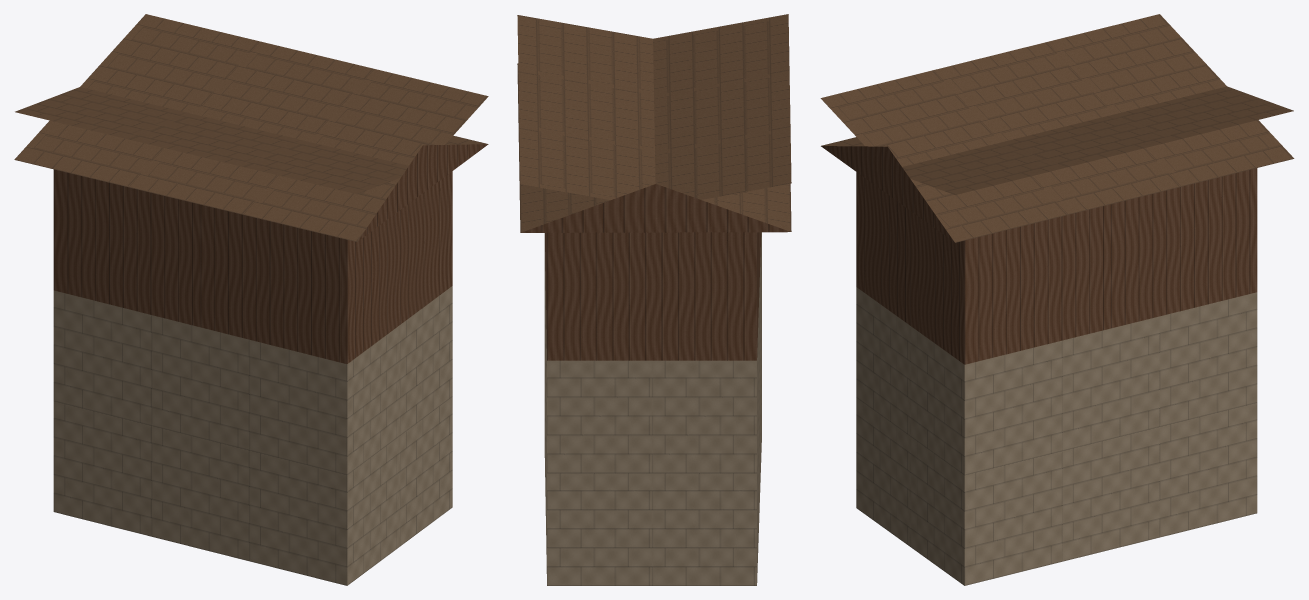
File: bld_c-2_19_536.gltf
The picture shows the model from 3 angles, left to right: view 1: azimuth 30°, elevation 25°; view 2: azimuth 150°, elevation 25°; view 3: azimuth 270°, elevation 25°; orthographic projection.
Visible parts, largest first — view 1: bld_c-2_19_536; view 2: bld_c-2_19_536; view 3: bld_c-2_19_536.
Part boxes in pixels (x1,y1,x2,y2): bld_c-2_19_536: (14, 14, 488, 585); bld_c-2_19_536: (517, 14, 791, 585); bld_c-2_19_536: (820, 14, 1294, 585).
Size of the model in its own units: 8.13 by 8.5 by 9.
Materials: 4 (4 with a texture image).
